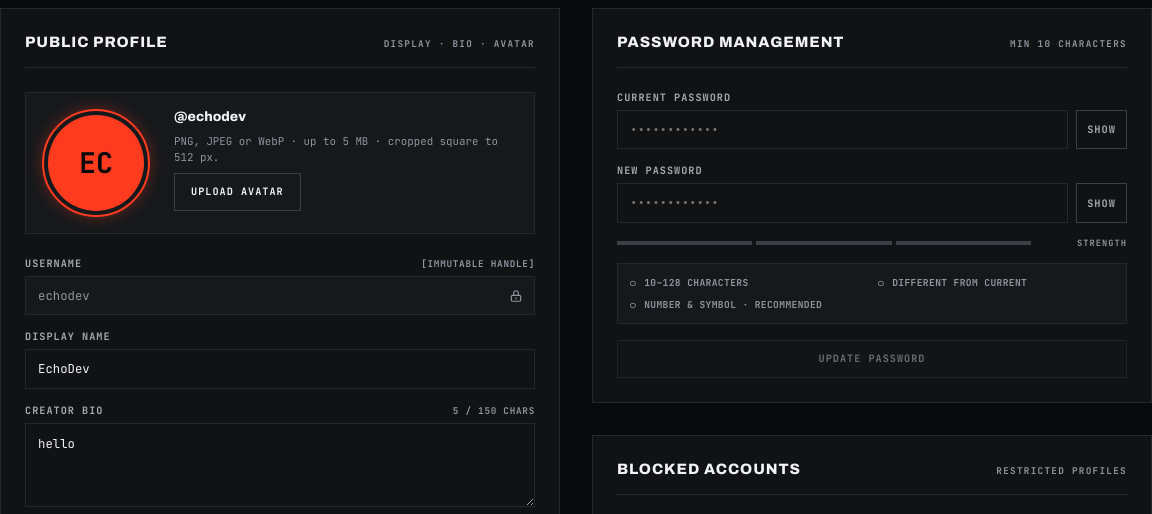
Test: ProfileSettingsPage › saves display name, bio and a bare-domain website through PATCH /me
The width and height of the screenshot is (1152, 514).
Replace the text in the text box labelled "CREATOR BIO" with "hi #test" at (280, 465), box [25,423,535,507]
(page scrolled)
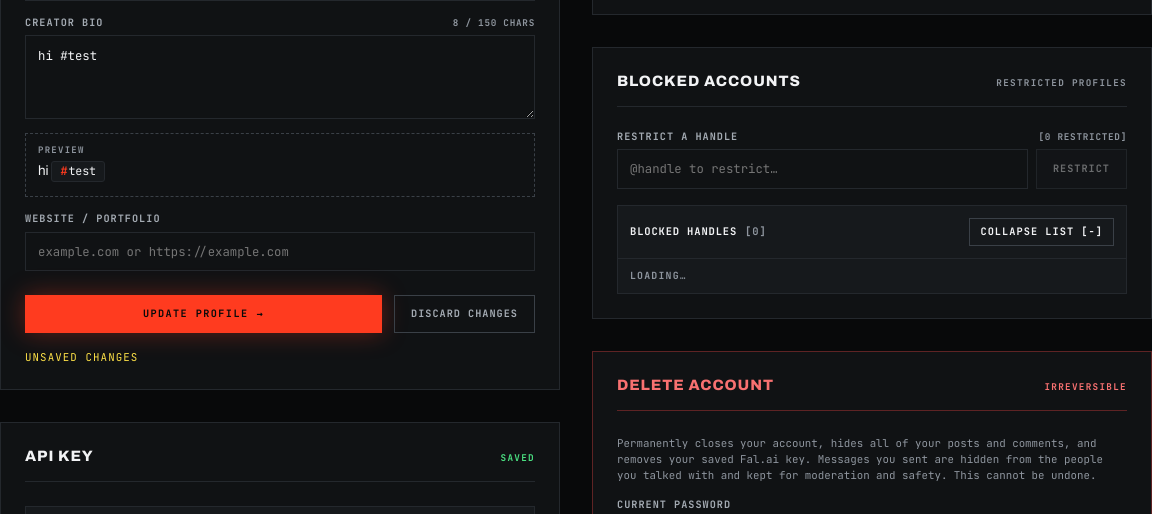
Type "test.com" into the field labelled "WEBSITE / PORTFOLIO" at (280, 251), box [25,232,535,271]
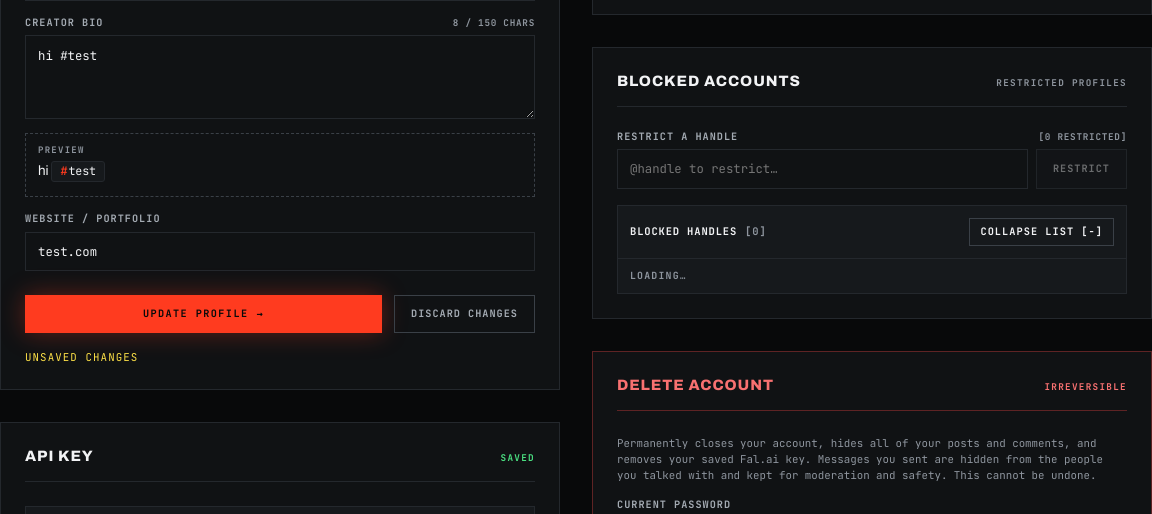
Expected: the text "PREVIEW" is shown, [38,144,85,156]
Click the button "UPDATE PROFILE →" at (204, 314), box [25,295,382,333]
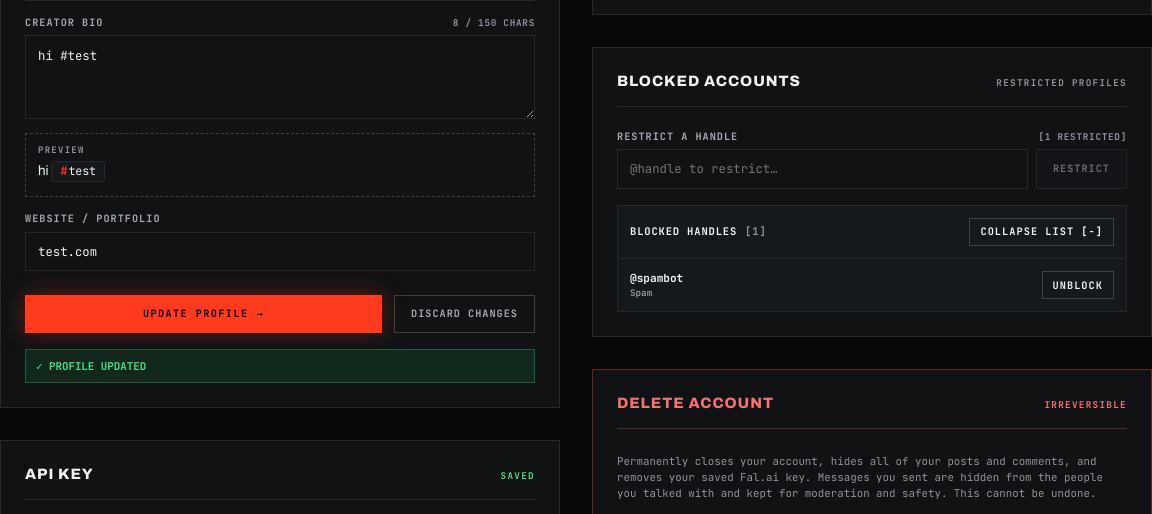
Expected: the text "✓ PROFILE UPDATED" is shown, [25,349,535,383]
